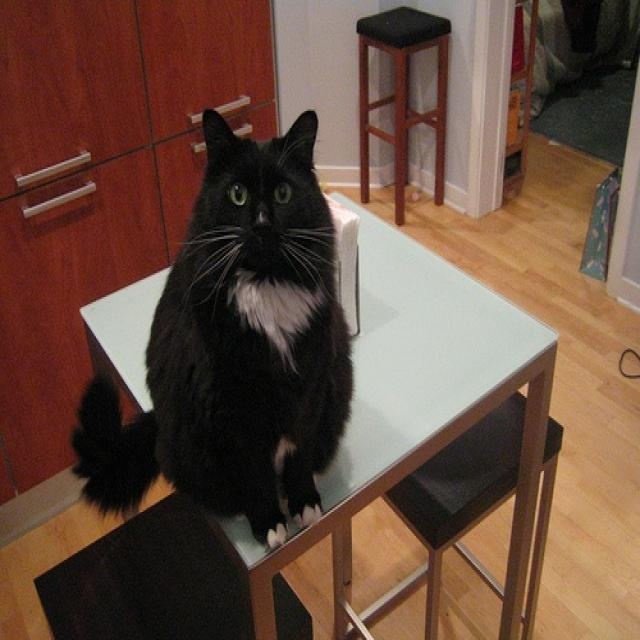cat: (69, 104, 353, 536)
diningtable: (73, 174, 582, 638)
